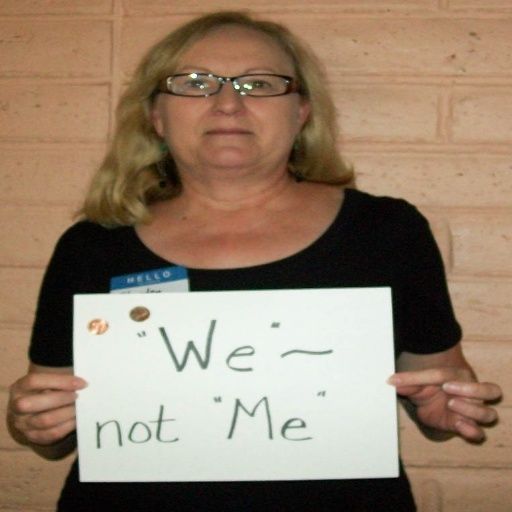hand: (391, 372, 509, 444), (0, 370, 85, 446)
